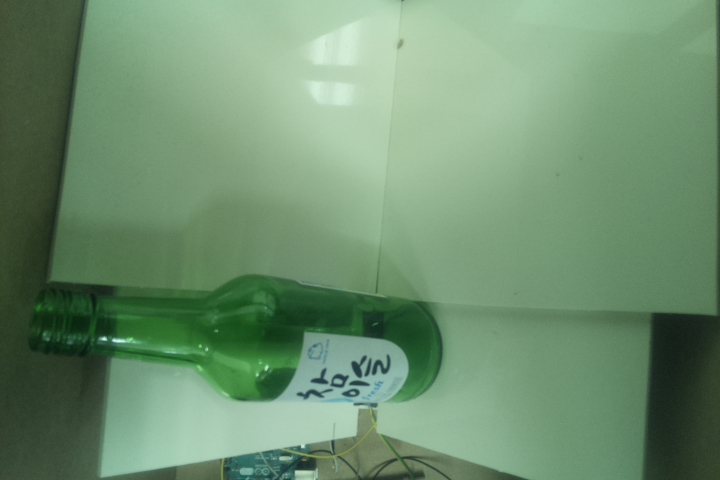soju: (29, 271, 445, 407)
